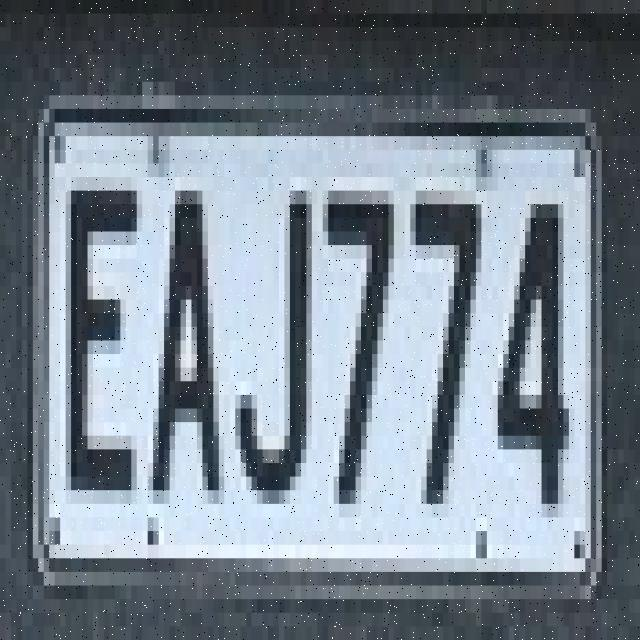LicensePlate: (22, 19, 616, 622)
